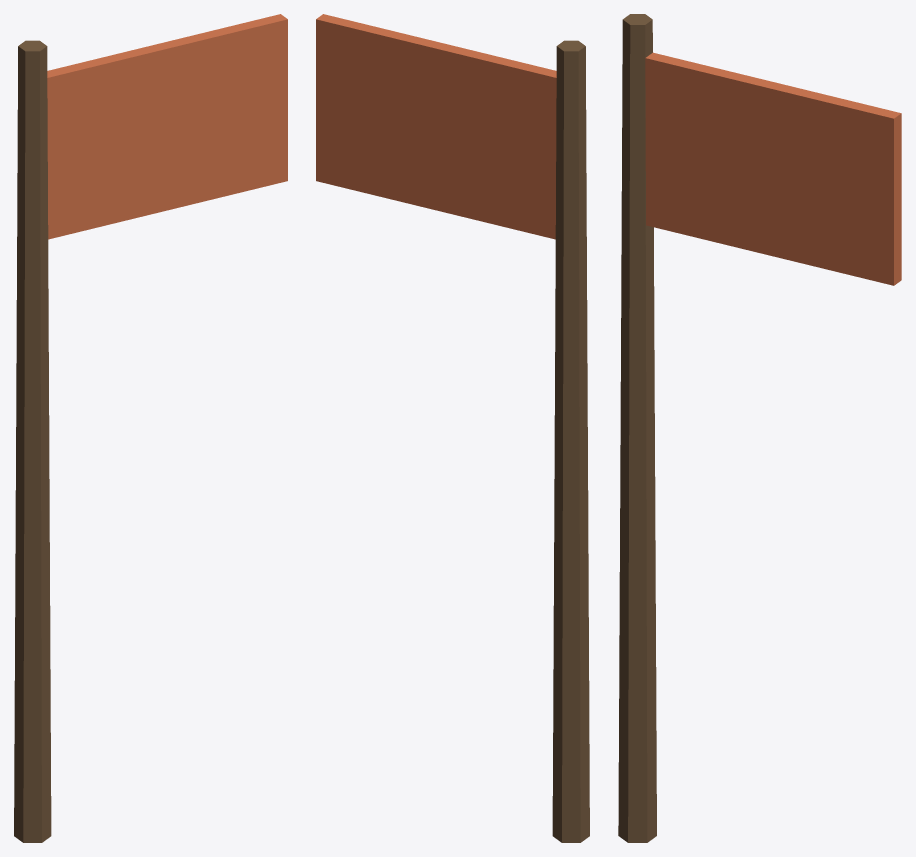
The model's file is flag.glb.
The picture shows the model from 3 angles, left to right: view 1: azimuth 30°, elevation 25°; view 2: azimuth 150°, elevation 25°; view 3: azimuth 330°, elevation 25°; orthographic projection. The views are drawn at different scales.
Parts seen in each view (by area): view 1: Flag_Cloth, flag; view 2: Flag_Cloth, flag; view 3: Flag_Cloth, flag.
Part boxes in pixels (x1=…): Flag_Cloth: x1=47, y1=14, x2=287, y2=239; flag: x1=14, y1=40, x2=51, y2=842; Flag_Cloth: x1=316, y1=14, x2=556, y2=239; flag: x1=552, y1=40, x2=589, y2=842; Flag_Cloth: x1=645, y1=52, x2=901, y2=285; flag: x1=618, y1=14, x2=656, y2=842.
Bounding box in the file's own units: 0.739 × 2.1 × 0.09.
